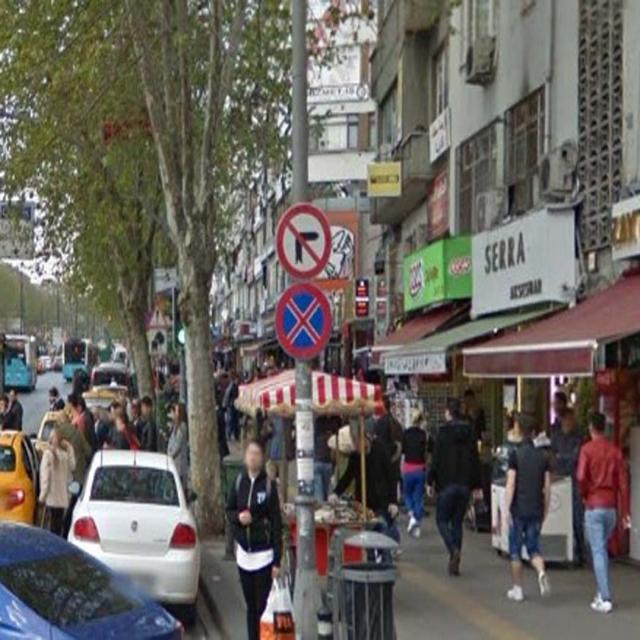sagadonulmez: (274, 204, 332, 279)
